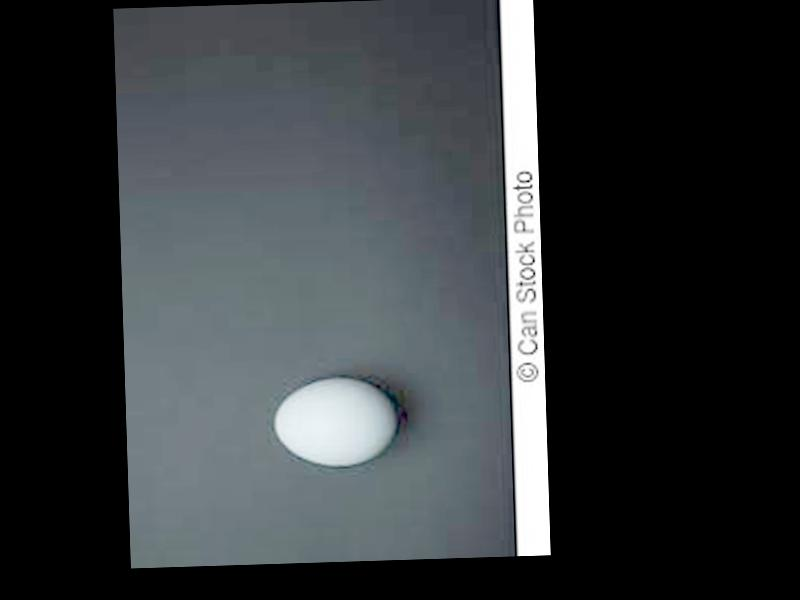Eggs: (272, 377, 396, 470)
